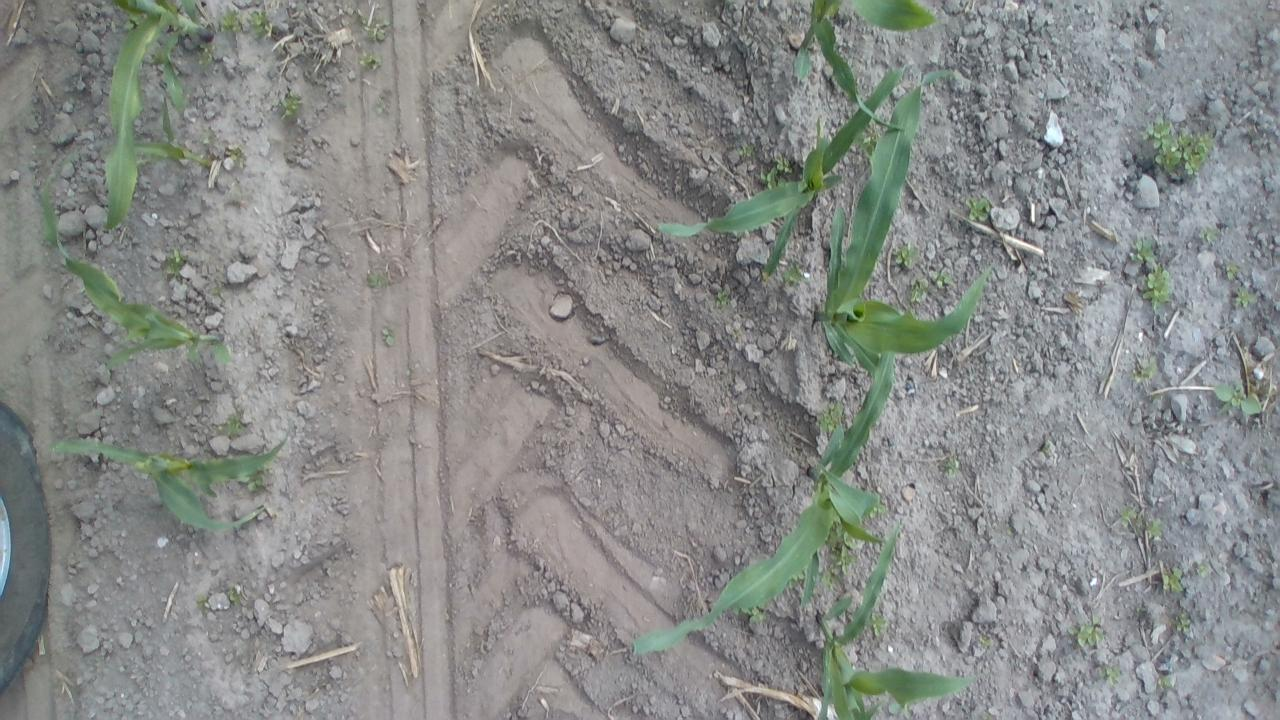Maize: (631, 344, 908, 664), (812, 63, 1002, 408), (656, 53, 920, 282), (30, 170, 239, 374), (793, 514, 974, 720), (84, 0, 224, 230), (42, 416, 297, 536), (785, 0, 943, 141), (84, 91, 205, 181)
Weeds: (1144, 116, 1215, 179), (1127, 238, 1174, 318), (826, 527, 870, 579), (1211, 377, 1264, 420), (810, 398, 853, 435), (1069, 614, 1106, 654), (962, 193, 1000, 229), (354, 9, 391, 43), (158, 248, 192, 283), (271, 87, 305, 120), (780, 256, 811, 291), (1130, 354, 1162, 386), (863, 610, 895, 641), (1158, 563, 1188, 596), (924, 264, 957, 294), (761, 157, 792, 188), (736, 598, 768, 628), (246, 8, 274, 41), (238, 470, 270, 498), (709, 288, 738, 318), (938, 453, 966, 483), (216, 7, 243, 37), (1119, 504, 1145, 535), (356, 49, 387, 74), (889, 245, 920, 268), (194, 43, 217, 74), (904, 277, 926, 309), (1232, 285, 1260, 310), (1173, 603, 1197, 632), (222, 144, 249, 168), (1194, 223, 1222, 246), (220, 586, 246, 610), (364, 269, 392, 291), (1102, 662, 1126, 686), (193, 592, 211, 624), (370, 93, 392, 118), (208, 279, 229, 305), (224, 414, 247, 437), (1144, 519, 1165, 544), (379, 324, 400, 349), (1192, 564, 1216, 584), (1220, 258, 1240, 282), (732, 144, 757, 160), (1157, 676, 1175, 694)
